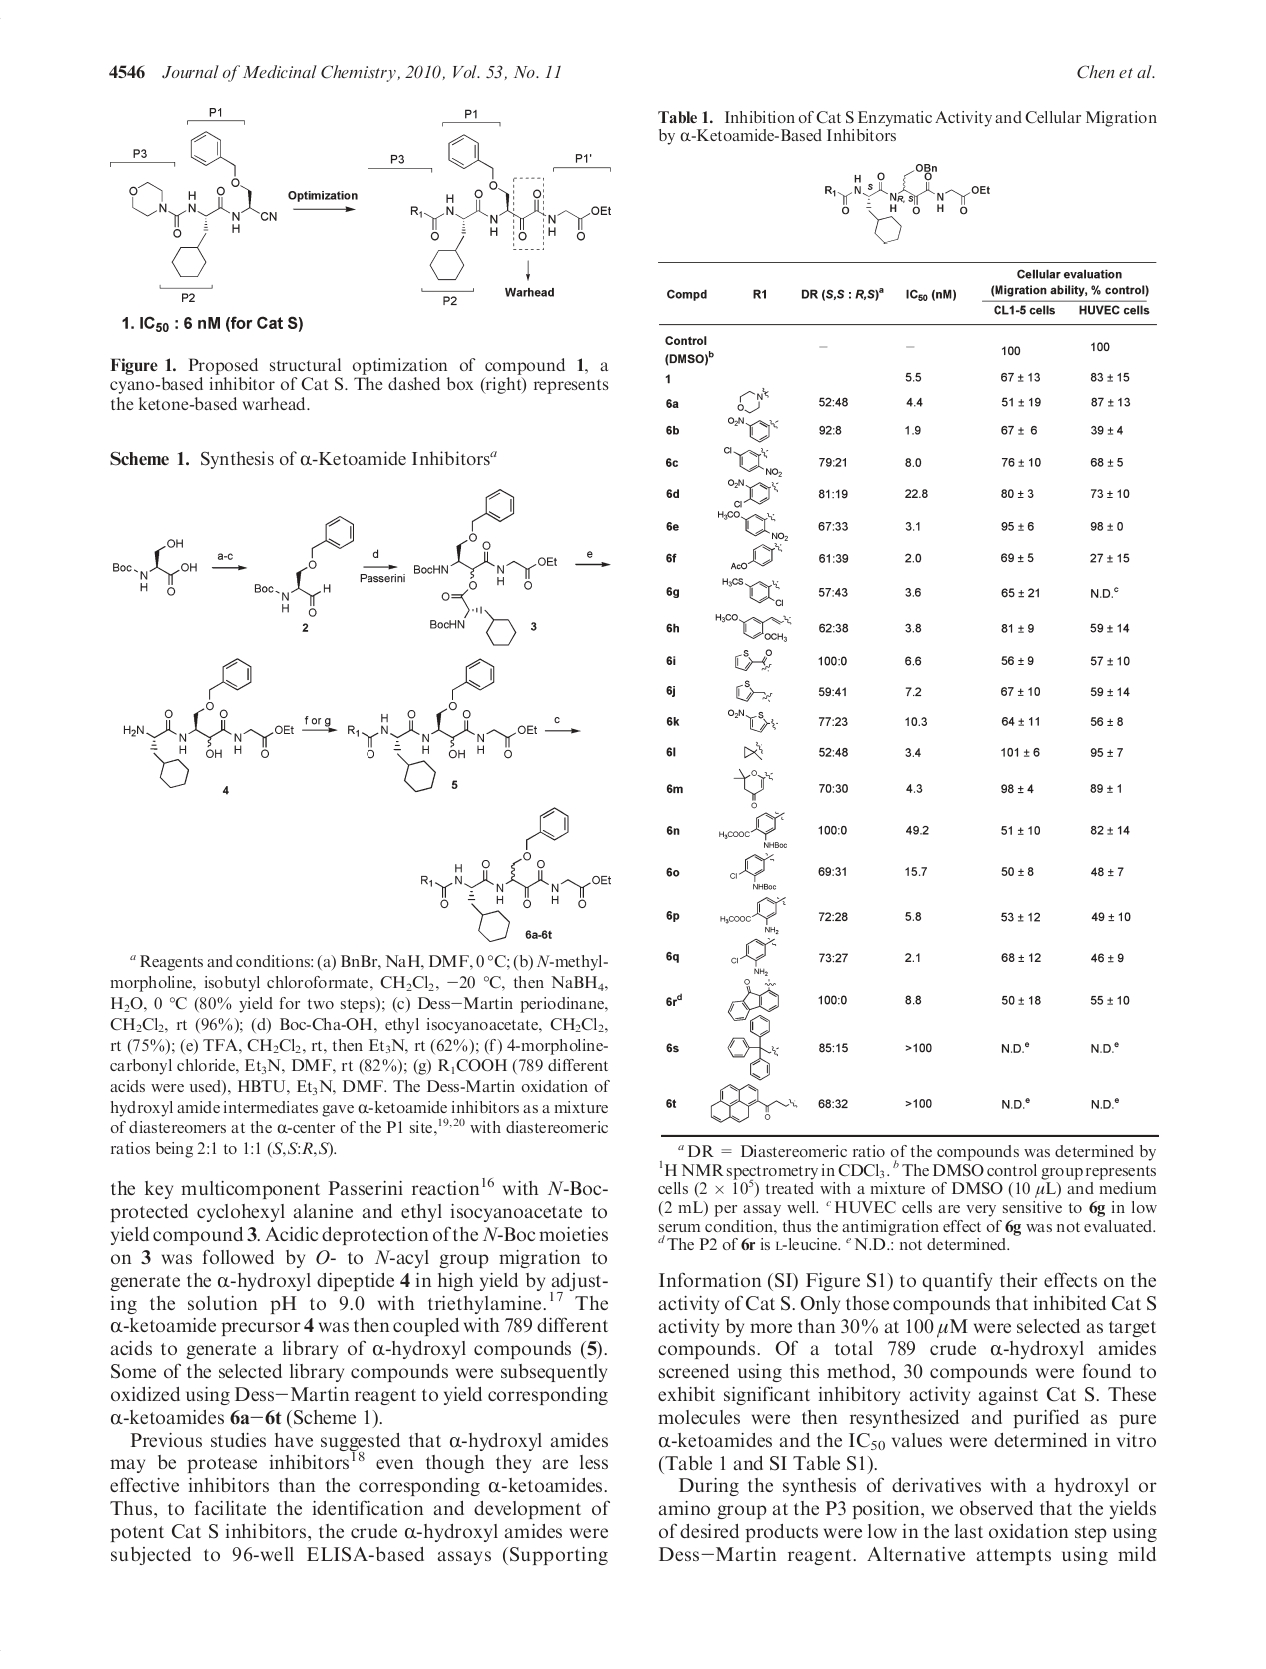exist_molecular: (404, 132, 614, 282), (414, 803, 621, 943), (342, 656, 543, 795), (120, 652, 297, 789), (128, 126, 281, 282), (414, 484, 559, 648), (821, 157, 993, 250), (257, 515, 358, 618), (106, 529, 201, 598), (707, 1081, 798, 1126), (727, 1013, 785, 1081), (717, 810, 790, 852), (719, 894, 791, 936), (715, 609, 795, 645), (725, 977, 785, 1024), (715, 508, 790, 545), (727, 430, 785, 477), (729, 848, 781, 892), (719, 576, 785, 610), (729, 934, 779, 977), (721, 475, 781, 509), (734, 766, 775, 810), (727, 543, 785, 573), (729, 414, 783, 444), (727, 706, 779, 734), (734, 645, 779, 674), (733, 384, 773, 415), (734, 677, 773, 706), (741, 739, 769, 763)
